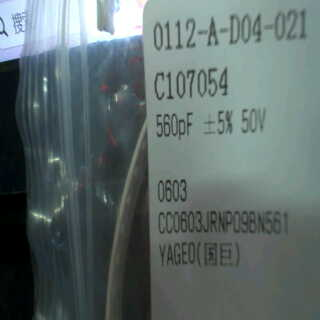560pF: (152, 107, 195, 141)
